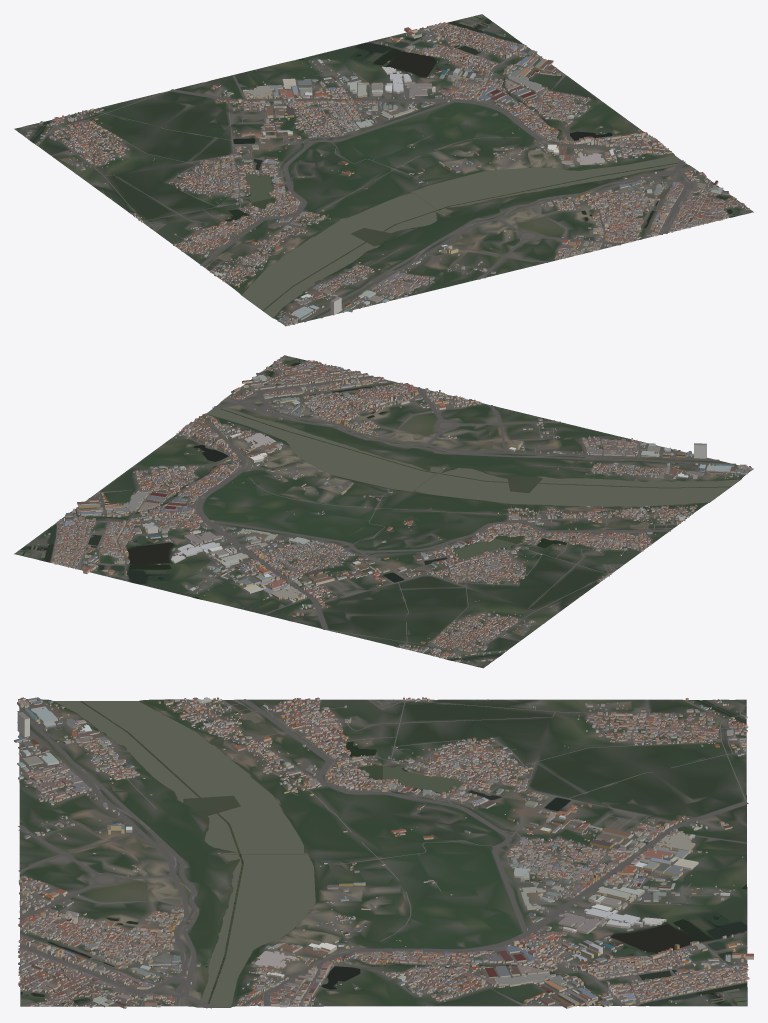
3 views of the same model, one above another, from view 1: azimuth 30°, elevation 25°; view 2: azimuth 150°, elevation 25°; view 3: azimuth 270°, elevation 25° (orthographic). The views are drawn at different scales.
Visible parts, largest first — view 1: ground, buildings, water, roads; view 2: ground, buildings, water, roads; view 3: ground, buildings, water, roads.
Part boxes in pixels (x1,y1,x2,y2): ground: [14, 14, 753, 326]; buildings: [26, 22, 749, 325]; water: [30, 14, 748, 317]; roads: [33, 25, 752, 324]; ground: [14, 355, 753, 668]; buildings: [37, 357, 751, 662]; water: [15, 356, 740, 660]; roads: [51, 355, 751, 662]; ground: [19, 699, 747, 1007]; buildings: [14, 697, 753, 1008]; water: [20, 700, 747, 1007]; roads: [17, 699, 748, 1008].
Bounding box in the file's own units: 2830 × 86.01 × 2853.
